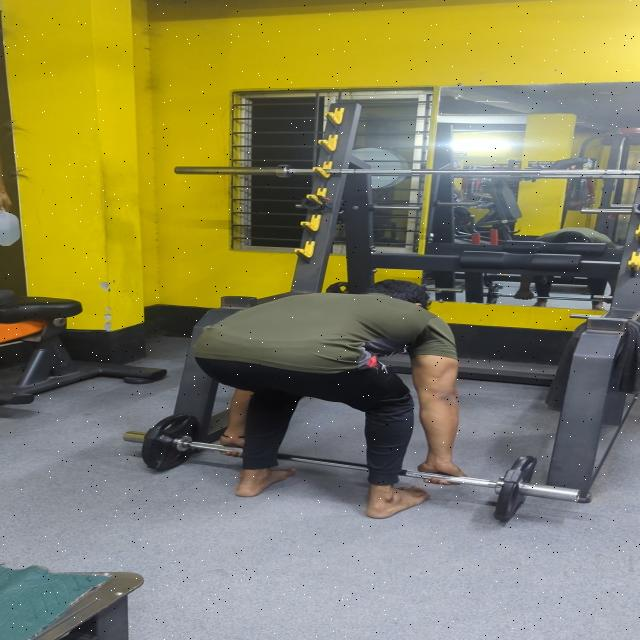Normal_Deadlifts: (16, 271, 527, 542)
